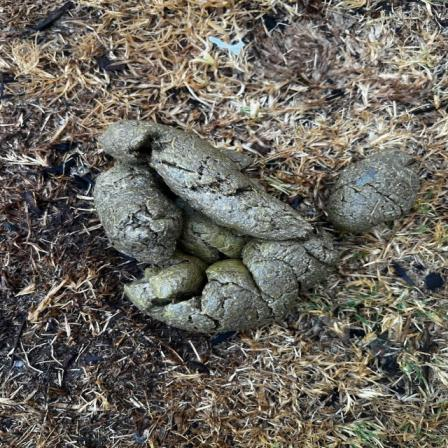dog-poop: (92, 106, 428, 348)
